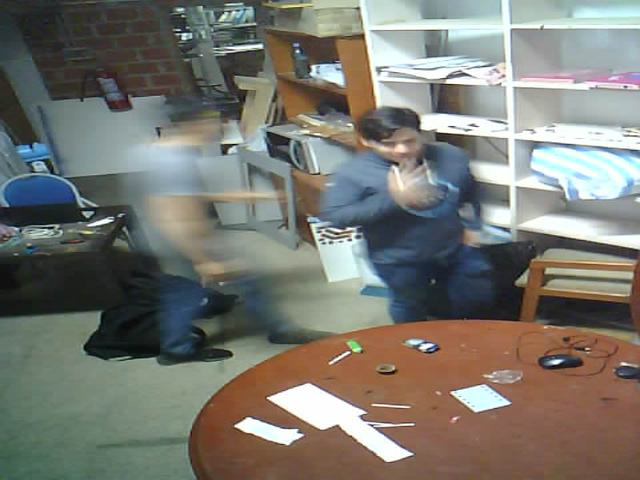person: (91, 58, 326, 359), (307, 102, 504, 345)
